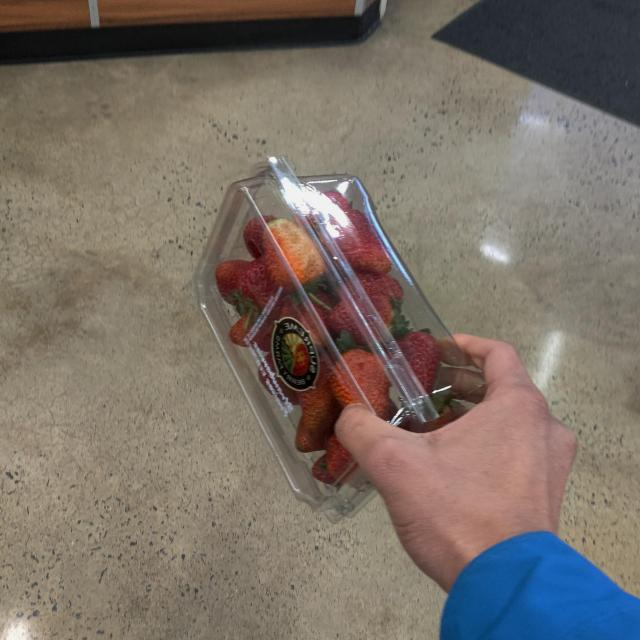Straw Berry: (200, 142, 480, 508)
